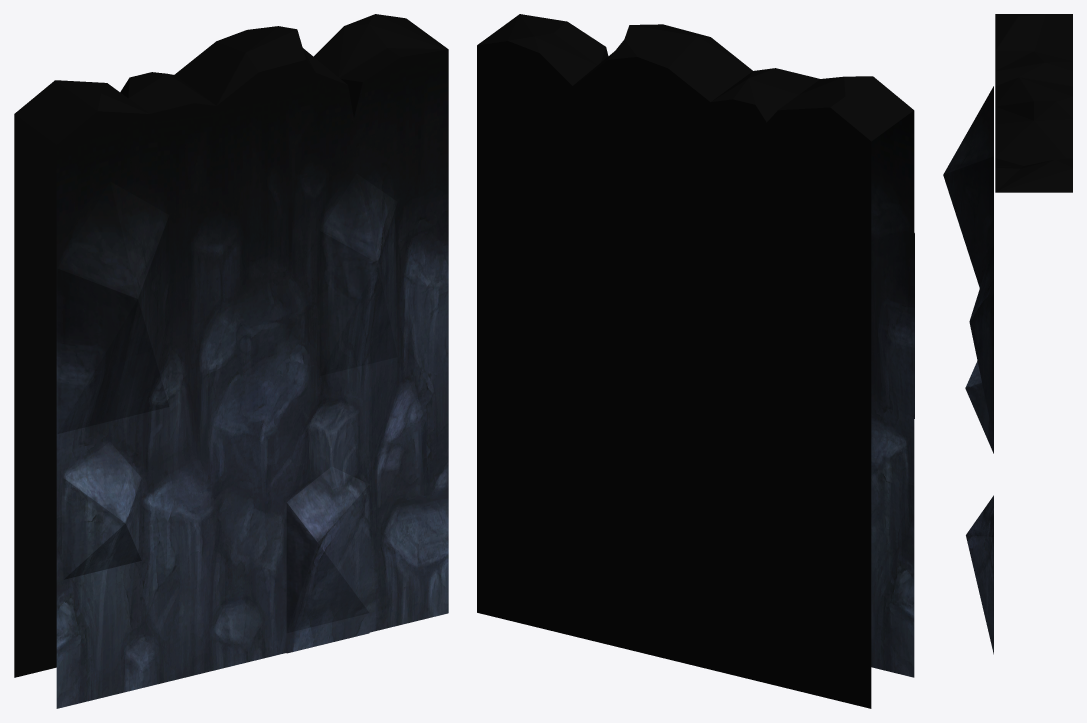
The model's file is mine_fade_straight_02.fbx.
3 renders of one model, left to right at view 1: azimuth 30°, elevation 25°; view 2: azimuth 150°, elevation 25°; view 3: azimuth 270°, elevation 25°, orthographic. The views are drawn at different scales.
Parts seen in each view (by area): view 1: obj1.043; view 2: obj1.043; view 3: obj1.043.
Boxes of the visible parts, x1,y1,x2,y2 form: obj1.043: (14, 14, 448, 708); obj1.043: (477, 14, 914, 708); obj1.043: (943, 14, 1072, 654).
Size of the model in its own units: 4 by 5.85 by 1.25.
